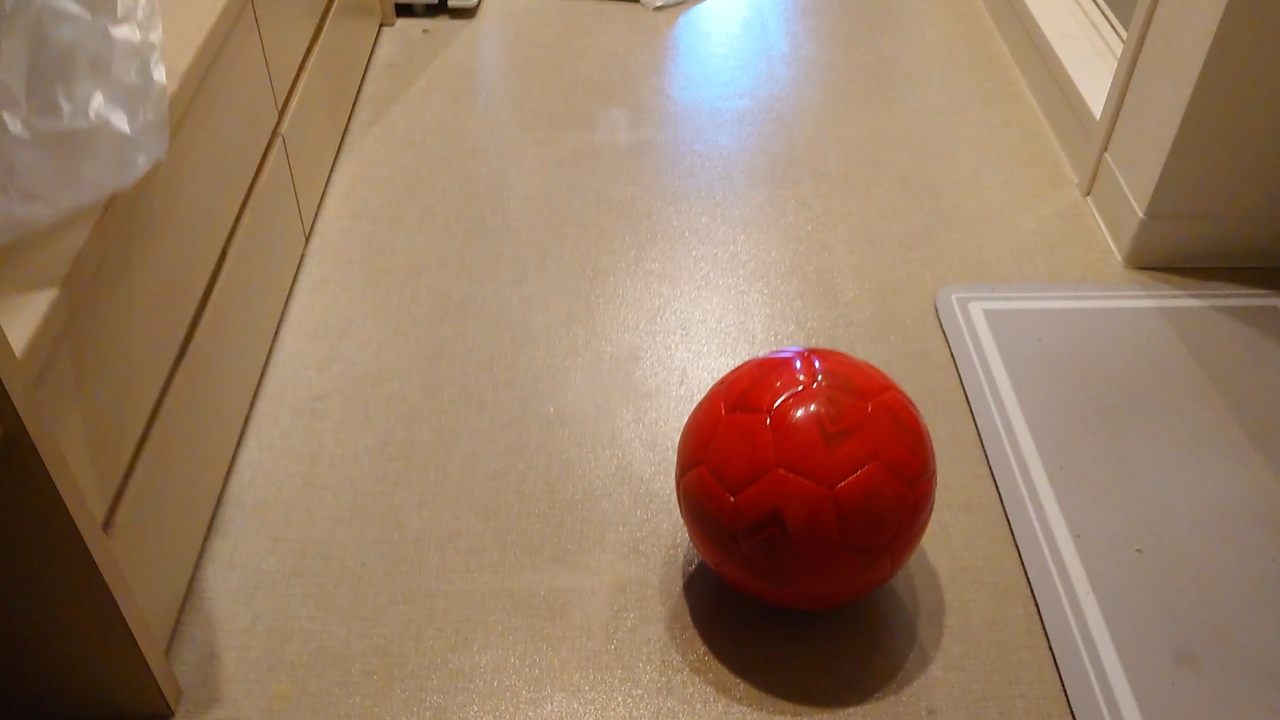red: (675, 354, 935, 608)
